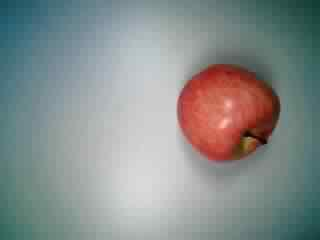apple: (174, 61, 279, 163)
